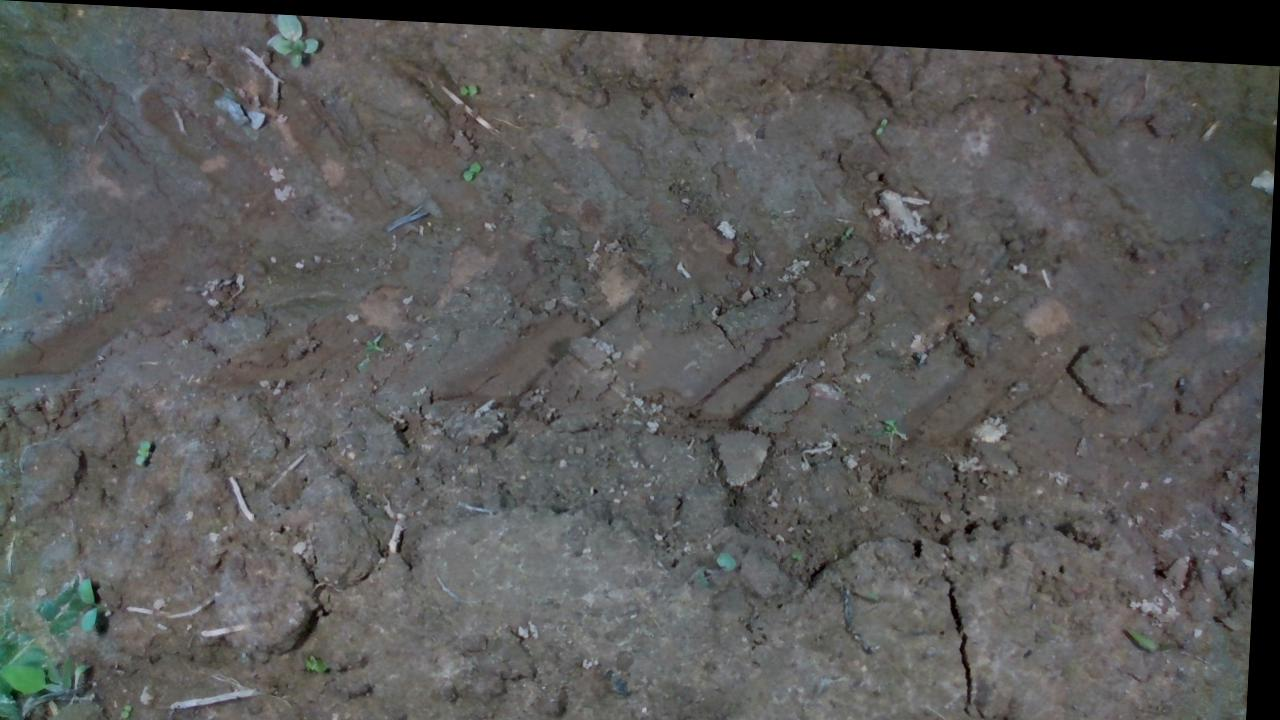weed: (136, 434, 156, 464), (463, 153, 484, 178), (874, 105, 889, 127), (458, 76, 479, 91)
